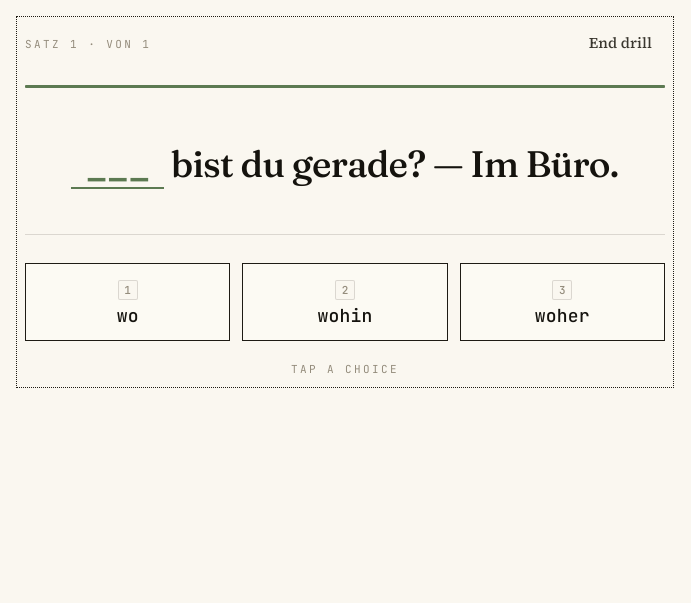
Test: QuestionWordRunner — reveal content (always shown, win or lose) › shows the filled sentence and translation after a correct pick
This screenshot has width=691, height=603.
Click the button with class "choice" showing "1 wo". click: (128, 302)
box: [25,263,230,341]
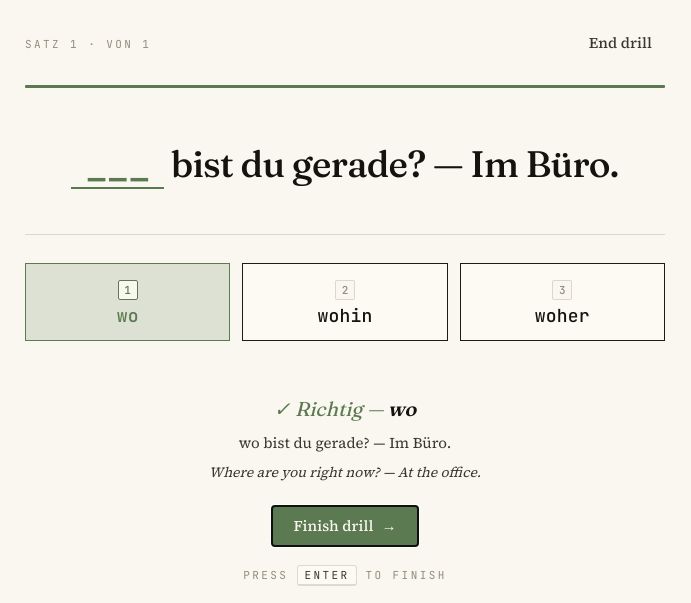
Now the element with class "drill-feedback" is shown, box [209,396,481,547]
Now the element with class "drill-feedback" shows "Where are you right now? — At the office.", box [209,462,481,482]
